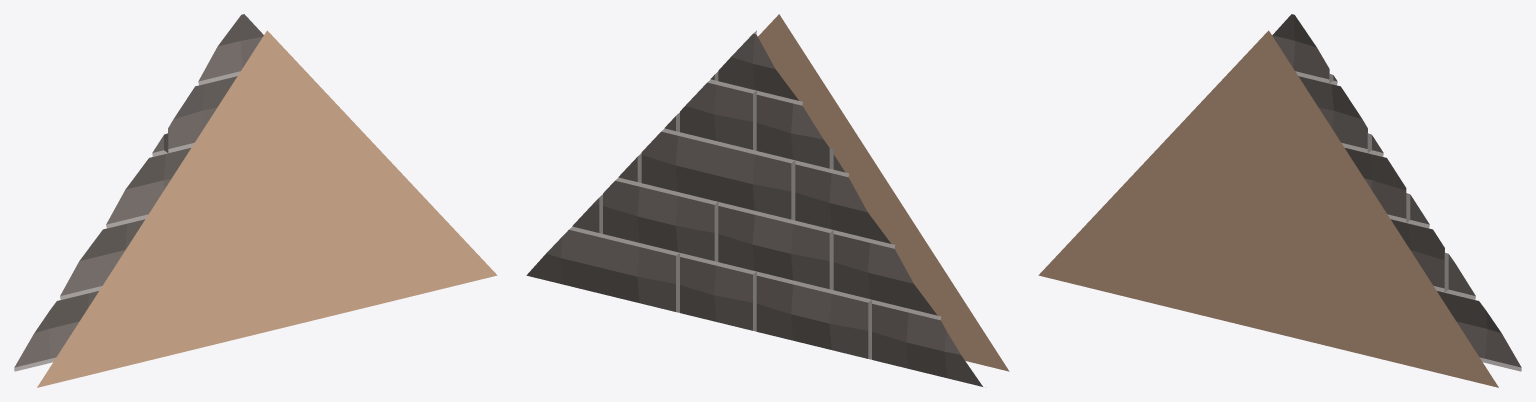
File: WallAngle_Top_3.fbx
3 views of the same model, side by side, from view 1: azimuth 30°, elevation 25°; view 2: azimuth 150°, elevation 25°; view 3: azimuth 330°, elevation 25° (orthographic).
Parts seen in each view (by area): view 1: WallAngle_Top_3; view 2: WallAngle_Top_3; view 3: WallAngle_Top_3.
Boxes of the visible parts, bbox=[...] form: WallAngle_Top_3: bbox=[14, 14, 497, 387]; WallAngle_Top_3: bbox=[526, 14, 1009, 387]; WallAngle_Top_3: bbox=[1038, 14, 1521, 387].
Bounding box in the file's own units: 2.4 × 0.24 × 1.5.
